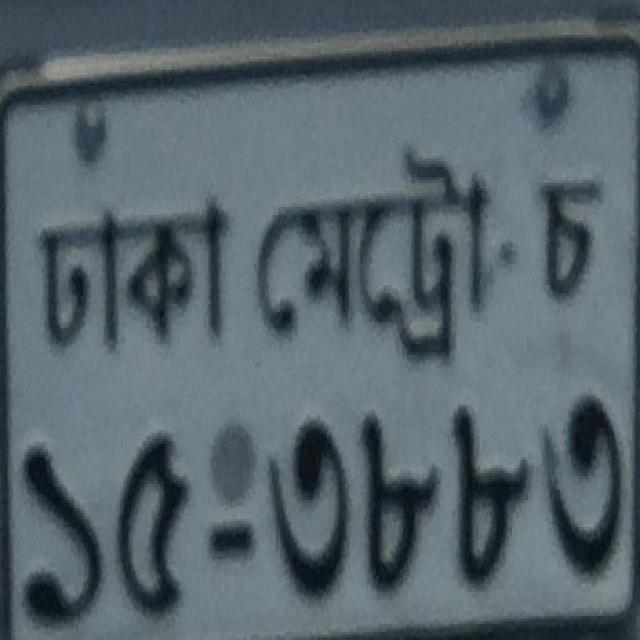numberplate: (1, 26, 637, 637)
